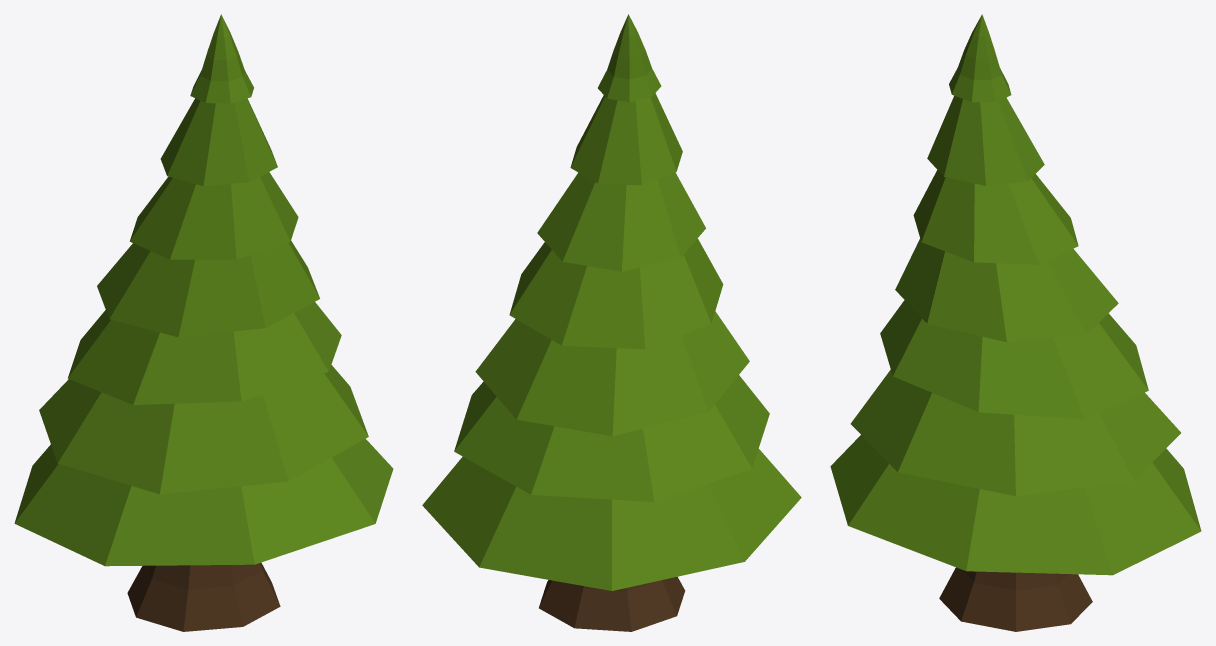
The model's file is Tree 003.fbx.
3 views of the same model, side by side, from view 1: azimuth 30°, elevation 25°; view 2: azimuth 150°, elevation 25°; view 3: azimuth 270°, elevation 25° (orthographic). The views are drawn at different scales.
Visible parts, largest first — view 1: Cube.014; view 2: Cube.014; view 3: Cube.014.
Boxes of the visible parts, x1=… form: Cube.014: x1=14, y1=14, x2=393, y2=631; Cube.014: x1=422, y1=14, x2=801, y2=631; Cube.014: x1=830, y1=14, x2=1201, y2=631.
Bounding box in the file's own units: 514 × 898 × 514.
